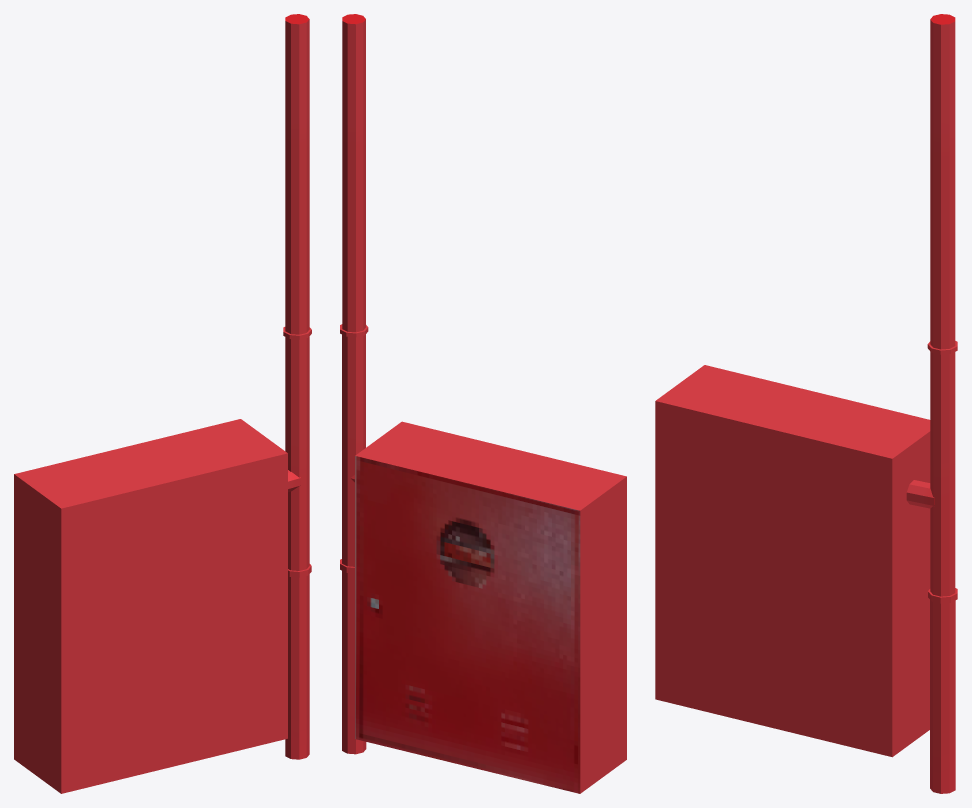
Rendered from fire distinguisher.fbx.
3 views of the same model, side by side, from view 1: azimuth 30°, elevation 25°; view 2: azimuth 150°, elevation 25°; view 3: azimuth 330°, elevation 25° (orthographic). The views are drawn at different scales.
Parts seen in each view (by area): view 1: Cube.043; view 2: Cube.043; view 3: Cube.043.
Part boxes in pixels (x1,y1,x2,y2): Cube.043: (14, 14, 311, 793); Cube.043: (340, 14, 626, 793); Cube.043: (655, 14, 957, 793).
Bounding box in the file's own units: 150 × 394 × 45.81.
